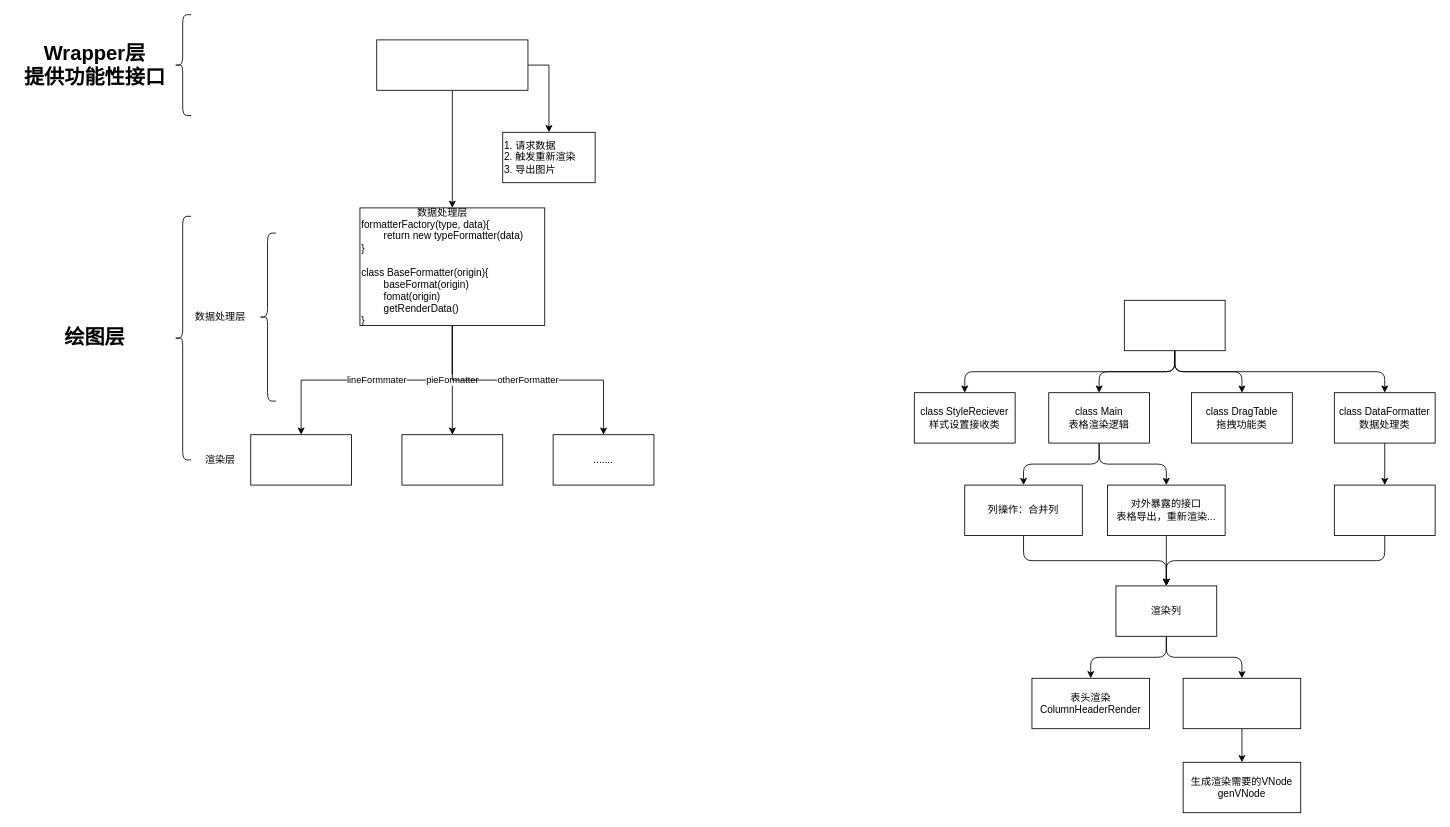
The diagram is 1450 pixels wide and 827 high, and some of its shapes have lost their labels. Each missing label, with the centre of its shape:
"class Wrapper() { Prop{ id, req, data, type } }" goes at (x=452, y=64).
"line" goes at (x=301, y=459).
"pie" goes at (x=452, y=459).
"数据格式化" goes at (x=1384, y=510).
"表格渲染 ColumnCellRender" goes at (x=1241, y=703).
"表格组件" goes at (x=1174, y=325).
